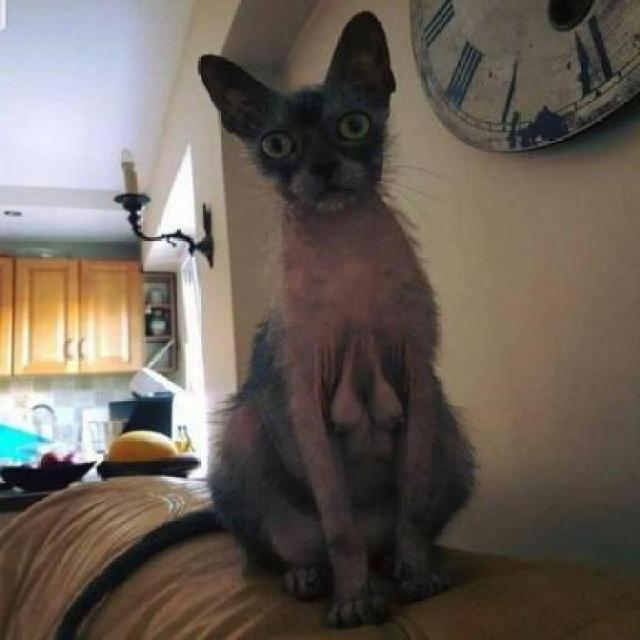cat: (181, 4, 481, 614)
